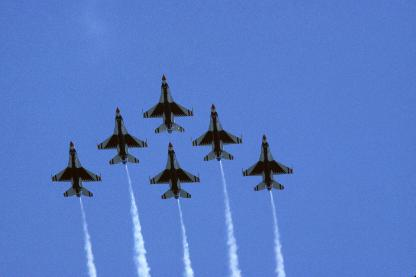F14: (96, 105, 148, 164), (148, 139, 200, 198), (190, 101, 242, 160), (142, 72, 192, 133), (50, 138, 102, 196), (242, 132, 292, 191)
